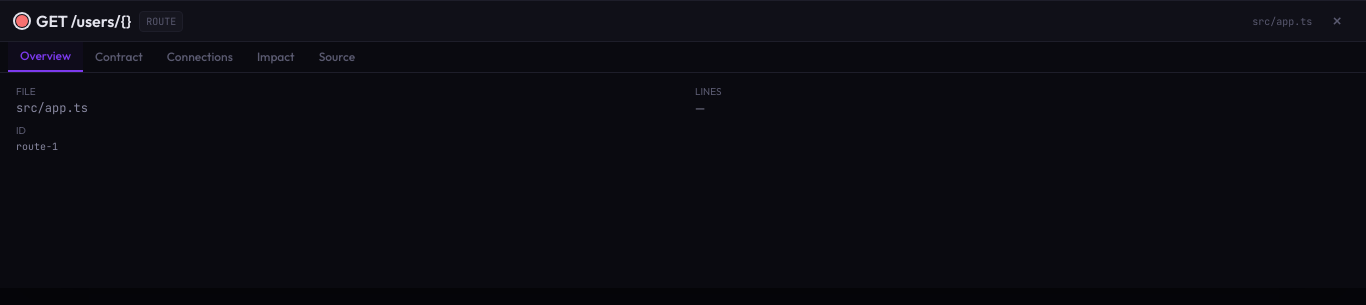
it: NodeDetail — contract tab › renders a known consumer with its match certainty
Click the button "contract" at (119, 57), box x1=83 y1=42 x2=155 y2=72
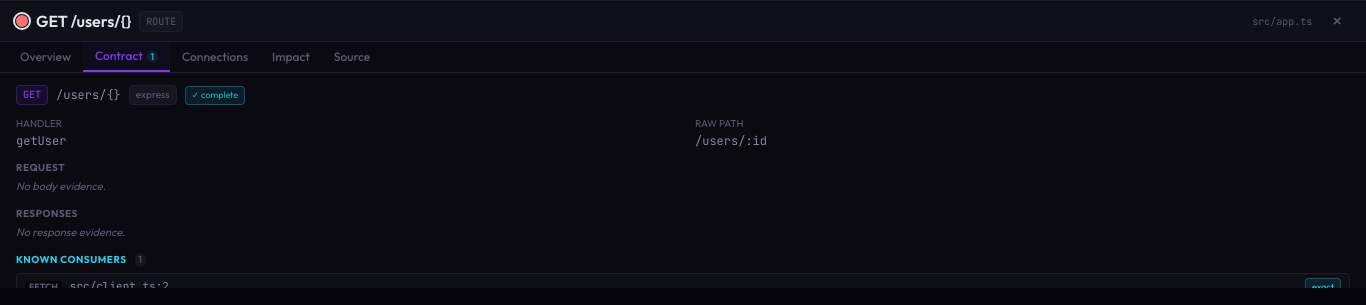
Expected: the text "src/client.ts:2" is shown, x1=70 y1=279 x2=169 y2=288
Expected: the text "exact" is shown, x1=1312 y1=281 x2=1334 y2=288
